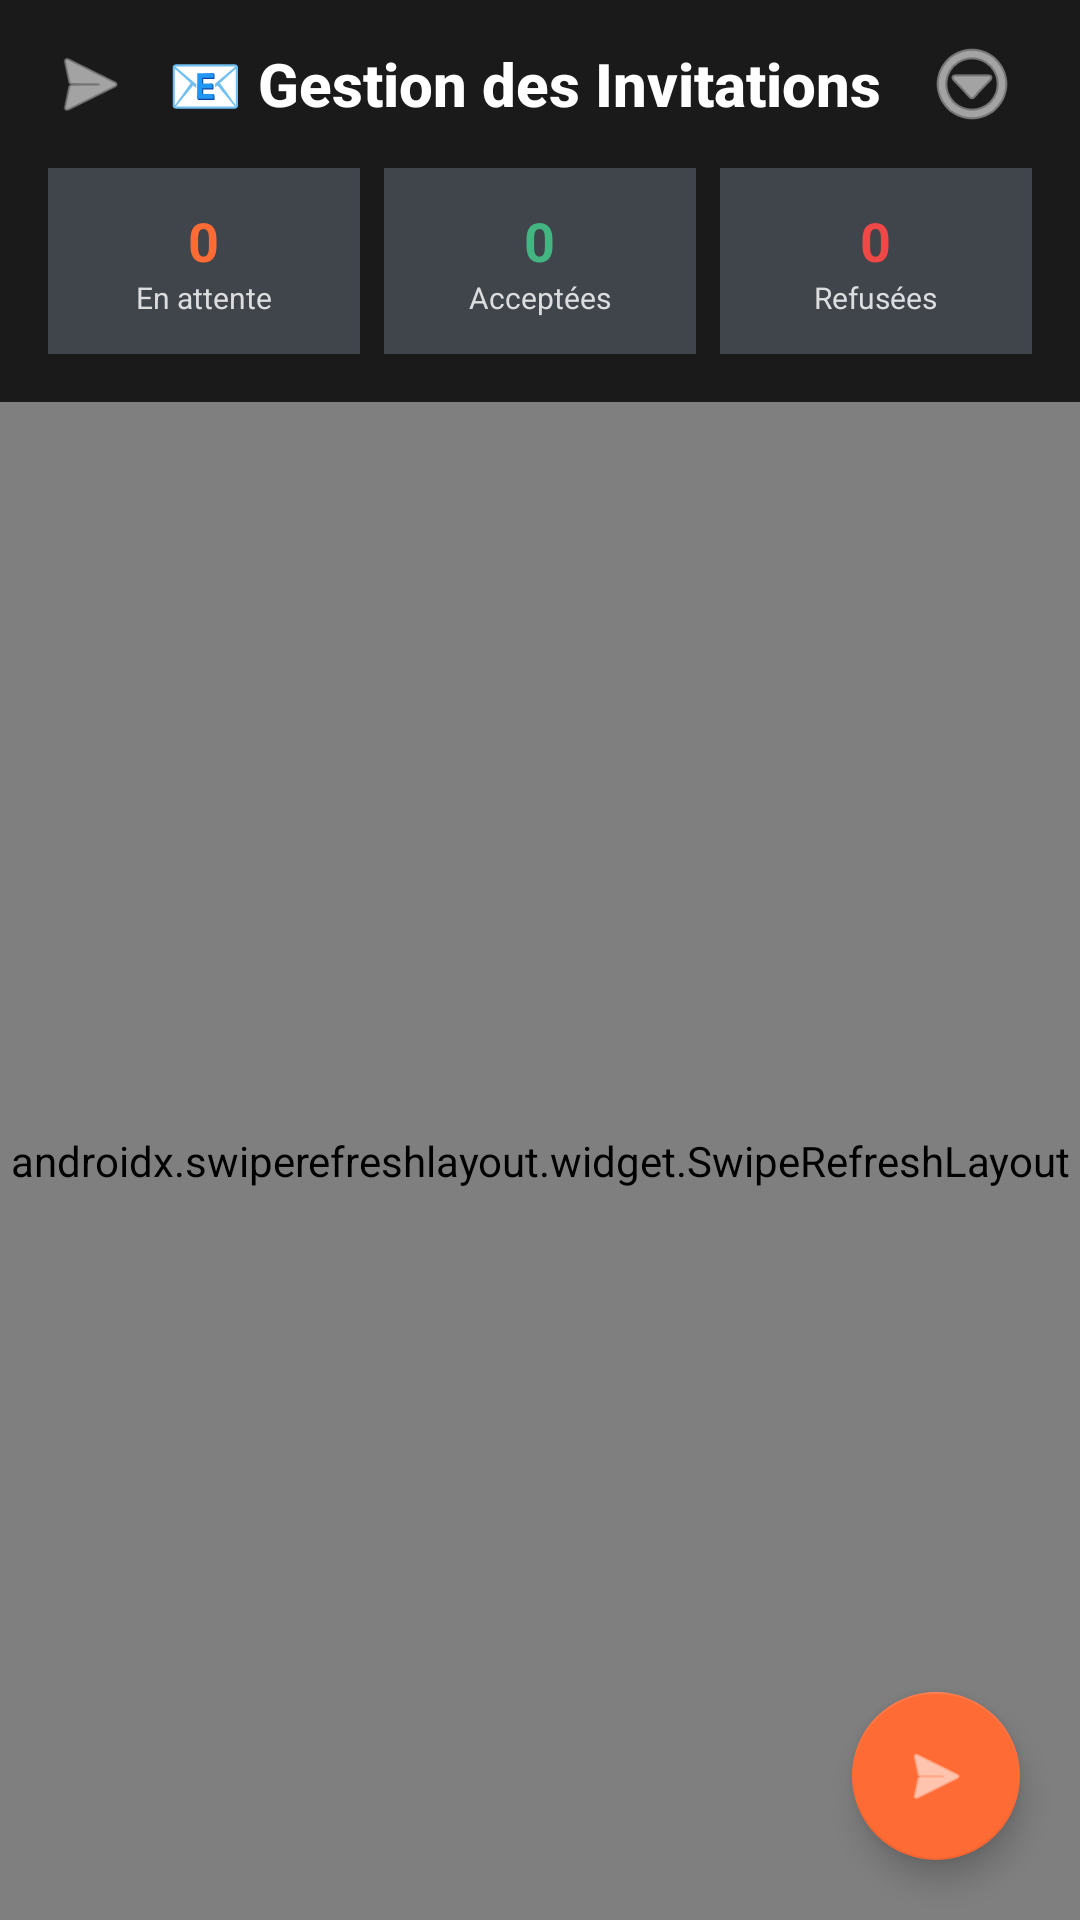

Icon bounding boxes for this 1080px×1920px phone screenshot, format (x1, y1, x2, y2):
Envoyer une invitation: (852, 1692, 1020, 1860)
Options: (936, 48, 1008, 120)
send: (64, 58, 118, 111)
